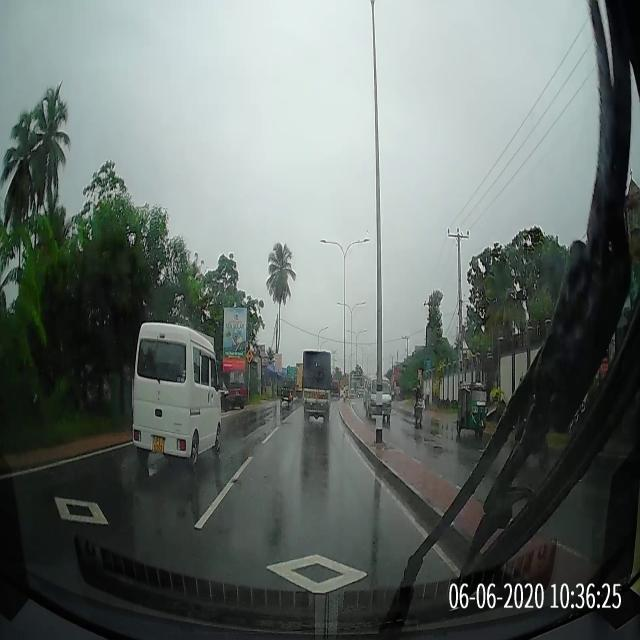Romb: (264, 553, 369, 597), (54, 496, 110, 525)
